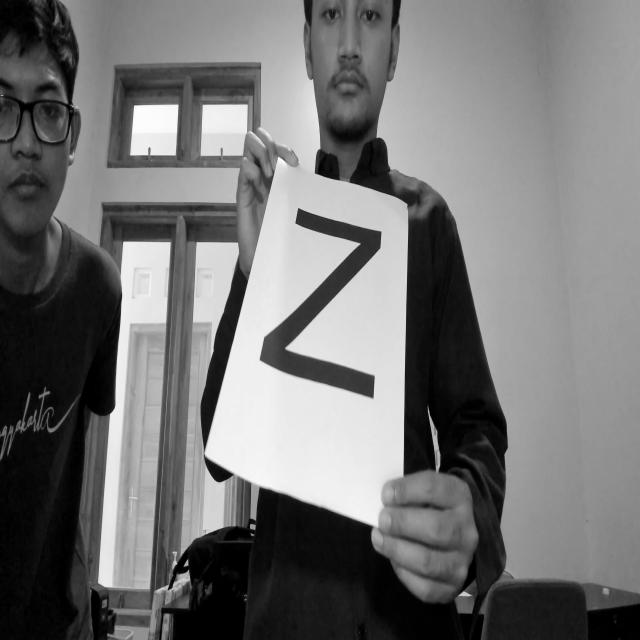z: (249, 178, 391, 431)
